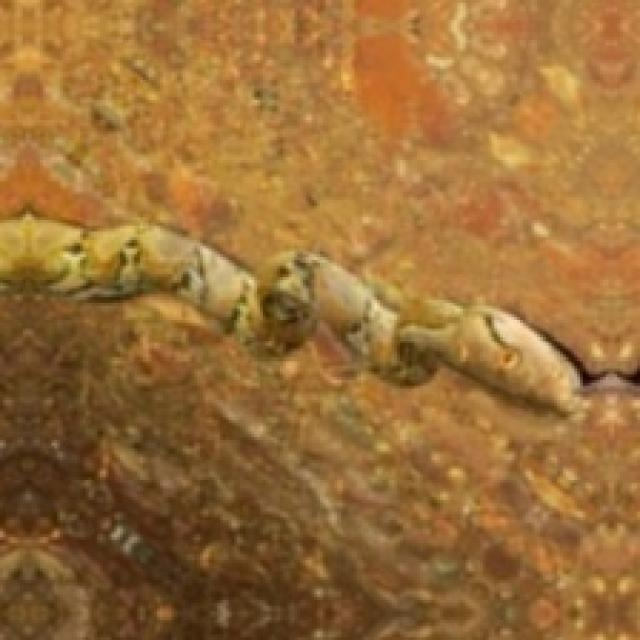reticulated python: (0, 214, 580, 411)
